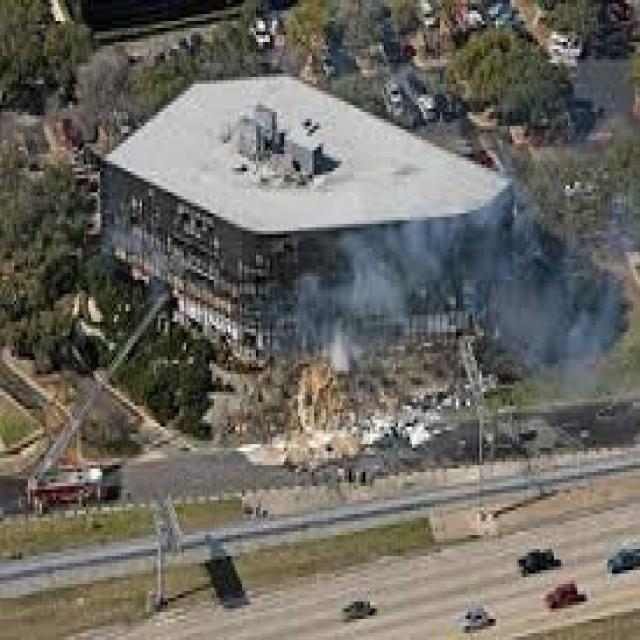Smoke: (287, 178, 626, 447)
